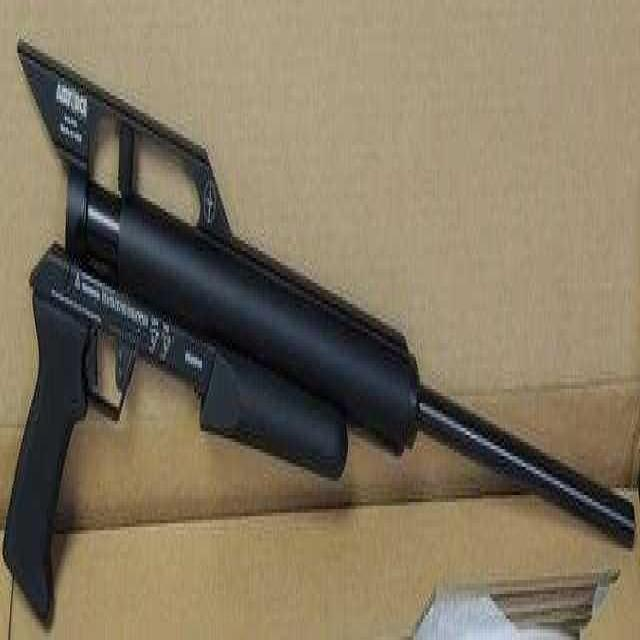heavyweapon: (11, 40, 422, 640)
